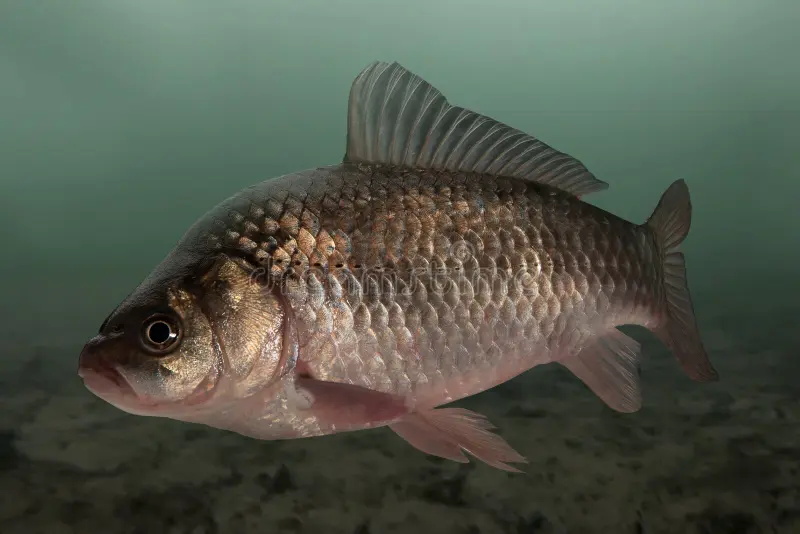Fish: (79, 62, 722, 443)
